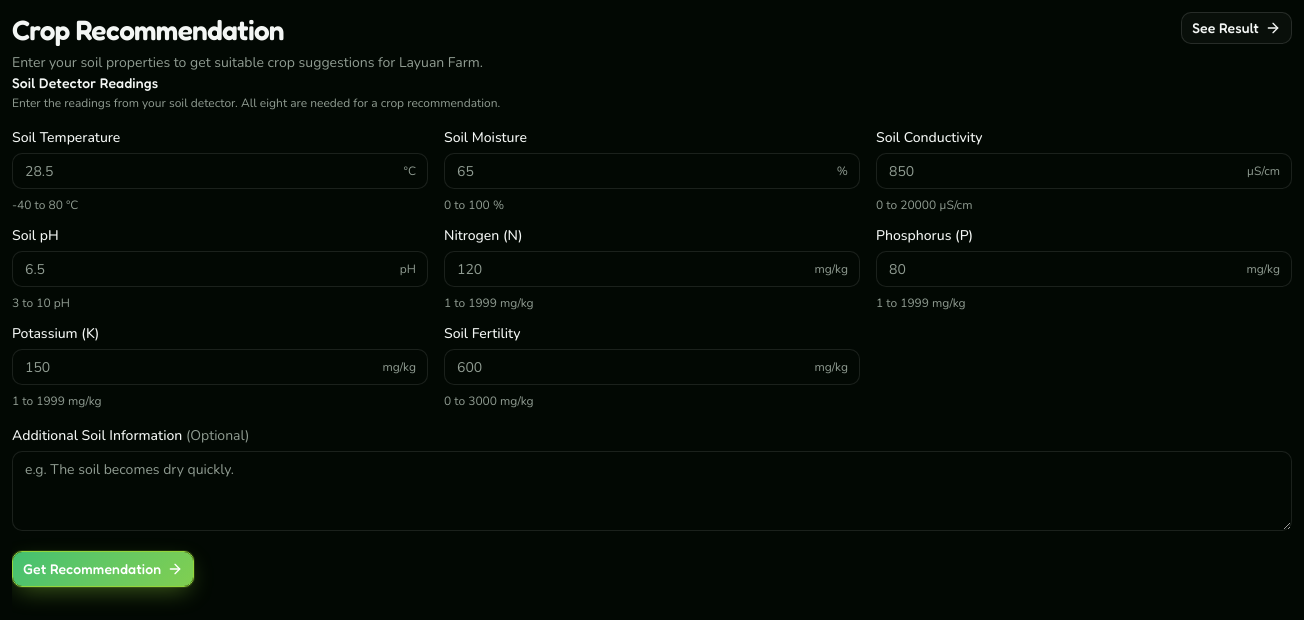
Test case: SoilRecommendationForm result view › opens on the form, with the saved result one click away
Check: the heading "Soil Detector Readings" is shown, box [12,74,158,91]
Click the button "See Result" at (1237, 28), box [1181,12,1292,44]
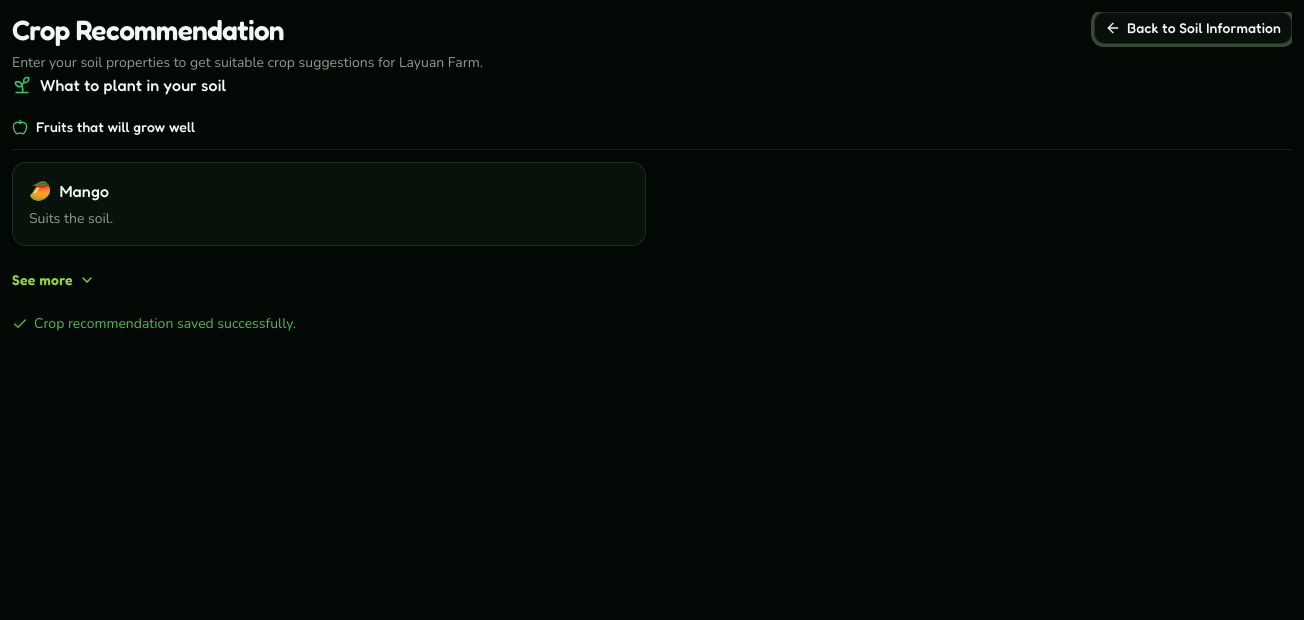
Check: the text "Mango" is shown, box [60,179,109,203]
Check: the heading "Soil Detector Readings" is gone
